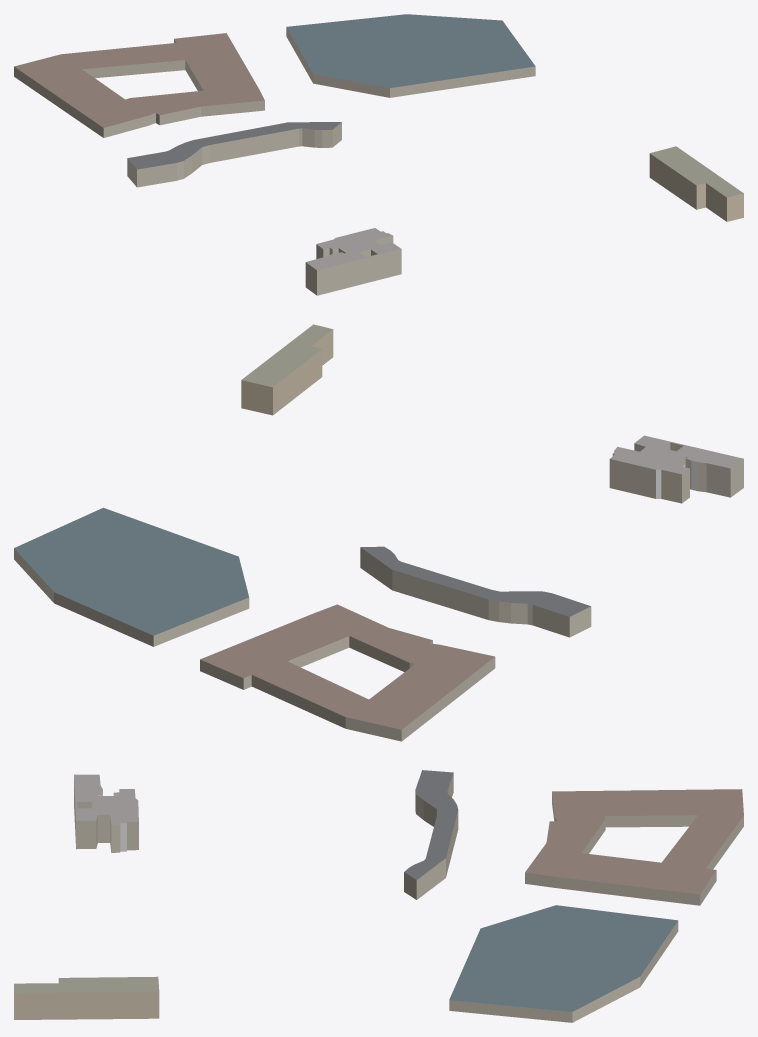
3 renders of one model, top to bottom at view 1: azimuth 30°, elevation 25°; view 2: azimuth 150°, elevation 25°; view 3: azimuth 270°, elevation 25°, orthographic. The views are drawn at different scales.
Parts seen in each view (by area): view 1: tuile; view 2: tuile; view 3: tuile.
Boxes of the visible parts, x1,y1,x2,y2 form: tuile: [14, 14, 743, 295]; tuile: [14, 324, 743, 741]; tuile: [14, 770, 743, 1022].
Size of the model in its own units: 225 by 12.71 by 295.
